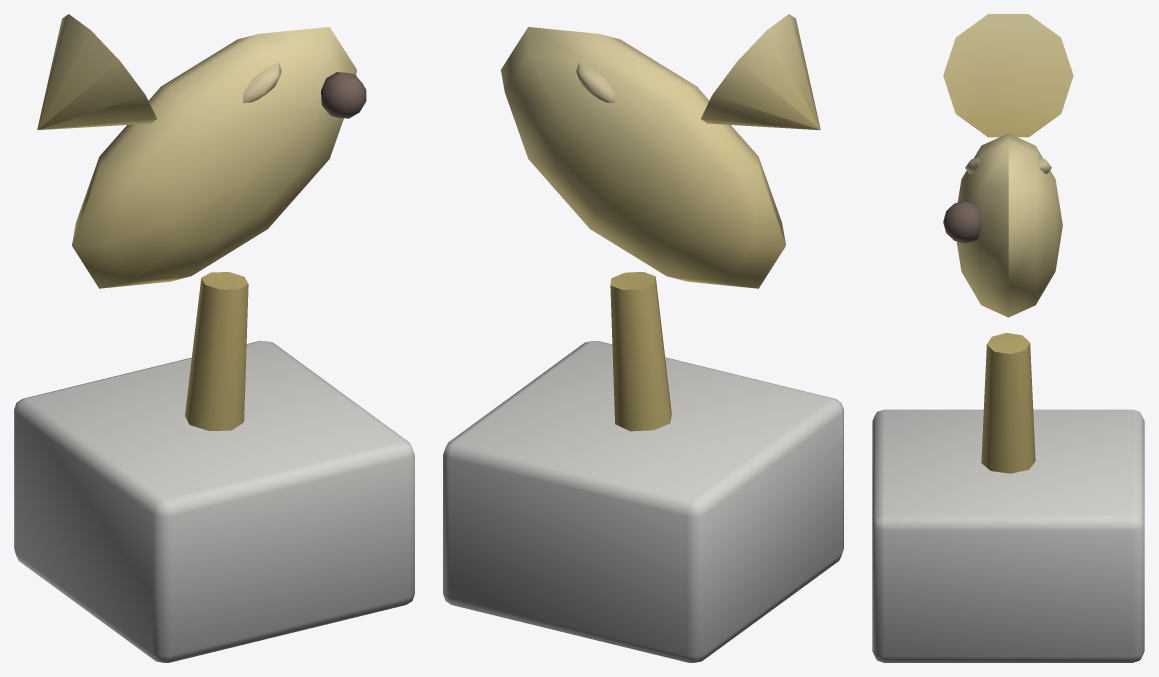
Rendered from golden_fish_statue.glb.
3 views of the same model, side by side, from view 1: azimuth 30°, elevation 25°; view 2: azimuth 150°, elevation 25°; view 3: azimuth 270°, elevation 25° (orthographic). The views are drawn at different scales.
Visible parts, largest first — view 1: golden_fish_statue; view 2: golden_fish_statue; view 3: golden_fish_statue.
Part boxes in pixels (<box>): golden_fish_statue: <box>14,14,414,662</box>; golden_fish_statue: <box>443,14,843,662</box>; golden_fish_statue: <box>872,14,1144,662</box>.
Bounding box in the file's own units: 0.6127 × 1.09 × 0.5.
